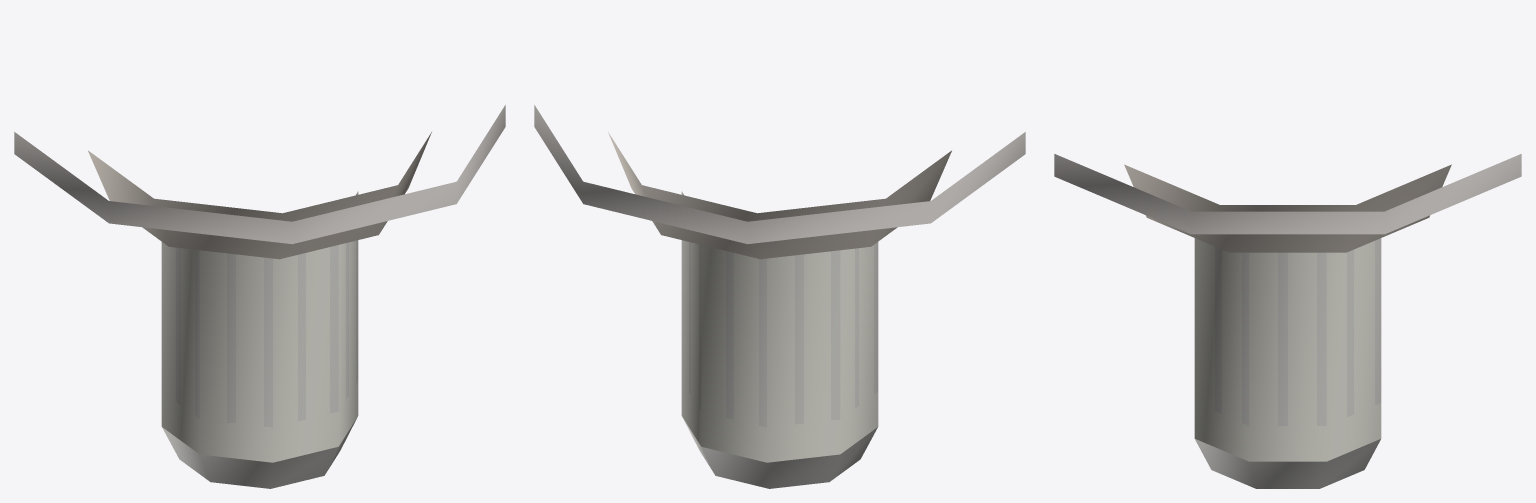
Rendered from kd_stage_135ded_4_50.glb.
3 views of the same model, side by side, from view 1: azimuth 30°, elevation 25°; view 2: azimuth 150°, elevation 25°; view 3: azimuth 270°, elevation 25° (orthographic). The views are drawn at different scales.
Visible parts, largest first — view 1: kd_stage_135ded_4_50; view 2: kd_stage_135ded_4_50; view 3: kd_stage_135ded_4_50.
Boxes of the visible parts, bbox=[...] form: kd_stage_135ded_4_50: bbox=[14, 105, 505, 488]; kd_stage_135ded_4_50: bbox=[534, 105, 1025, 488]; kd_stage_135ded_4_50: bbox=[1054, 154, 1521, 488].
Bounding box in the file's own units: 0.3696 × 0.3 × 0.3696.
1 material, 1 textured.
